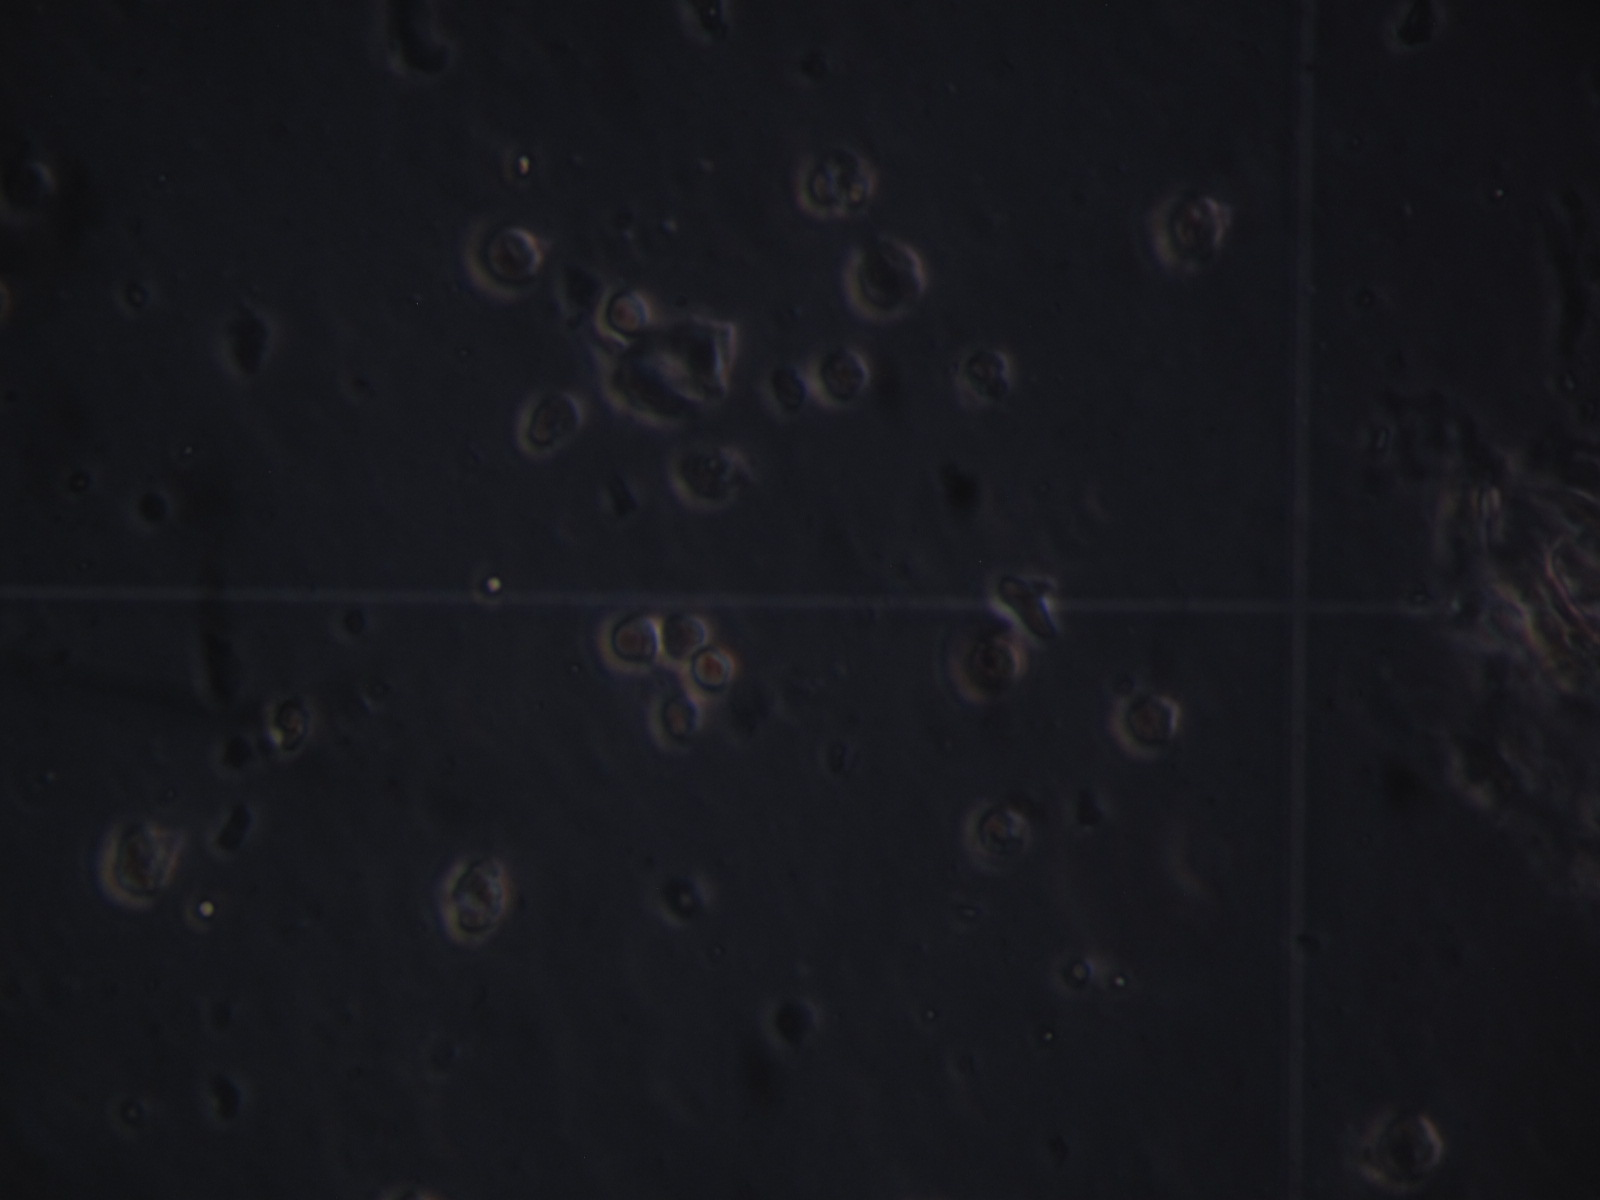hemo: (100, 812, 183, 910), (1361, 1105, 1445, 1185), (848, 234, 926, 319), (797, 140, 879, 217), (947, 626, 1027, 705), (441, 858, 511, 944), (466, 221, 540, 301), (1151, 194, 1225, 270), (1109, 689, 1180, 763), (666, 442, 745, 509), (597, 604, 666, 676), (646, 679, 704, 760), (964, 803, 1031, 867), (519, 384, 581, 453), (809, 345, 869, 408), (684, 638, 737, 706), (656, 608, 711, 673), (262, 689, 314, 758), (959, 345, 1014, 408), (595, 284, 651, 344)
